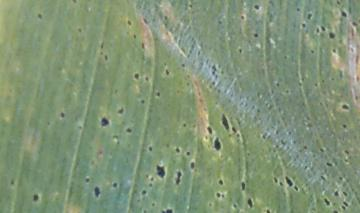tarspot: (220, 113, 230, 131), (213, 137, 223, 153), (155, 164, 166, 178), (99, 117, 110, 128), (175, 171, 183, 186), (93, 186, 101, 199), (327, 31, 336, 40), (285, 177, 293, 187), (305, 12, 313, 21), (32, 193, 39, 203), (160, 208, 174, 213), (240, 182, 247, 192), (247, 197, 253, 208), (124, 126, 132, 134), (323, 198, 331, 206), (59, 110, 66, 119), (133, 72, 140, 81), (206, 126, 213, 135), (341, 104, 350, 111), (211, 65, 217, 75), (339, 68, 344, 80), (111, 181, 119, 188), (142, 17, 149, 25), (254, 3, 261, 11), (237, 46, 244, 54), (97, 149, 105, 156), (349, 45, 356, 53), (272, 176, 278, 185), (84, 177, 91, 184), (351, 21, 358, 28), (320, 175, 327, 182), (343, 200, 350, 207), (112, 133, 119, 140), (117, 108, 125, 114), (218, 178, 224, 186), (215, 191, 221, 199), (293, 184, 299, 192), (301, 21, 307, 29), (77, 123, 83, 131), (217, 18, 223, 26), (275, 80, 281, 88), (190, 161, 195, 170), (37, 13, 43, 20), (99, 42, 105, 49), (174, 147, 181, 153), (142, 189, 148, 196), (207, 201, 213, 208), (239, 14, 245, 21), (295, 6, 301, 13), (335, 1, 342, 7), (338, 176, 345, 182), (302, 143, 308, 150), (114, 88, 119, 96), (127, 19, 132, 27), (144, 74, 149, 82), (321, 24, 326, 32), (141, 40, 145, 49), (164, 70, 170, 76), (253, 32, 259, 38), (342, 12, 348, 18), (334, 191, 340, 197), (327, 162, 333, 168), (342, 191, 348, 197), (344, 149, 350, 155), (319, 147, 325, 153), (185, 80, 191, 86), (148, 146, 153, 153), (140, 98, 145, 105), (182, 122, 187, 129), (186, 150, 191, 157), (163, 15, 168, 22), (211, 79, 216, 86), (355, 94, 360, 101), (339, 38, 344, 45), (156, 90, 160, 98), (332, 209, 340, 213), (10, 180, 15, 186), (232, 203, 237, 209), (150, 202, 156, 207), (148, 182, 153, 188), (150, 176, 155, 182), (144, 174, 150, 179), (332, 48, 337, 54), (310, 48, 315, 54), (232, 127, 237, 133), (342, 123, 347, 129), (90, 159, 95, 165), (46, 121, 51, 127), (285, 88, 290, 94), (162, 61, 167, 67), (262, 134, 267, 140), (321, 78, 326, 84), (287, 130, 292, 136), (104, 54, 108, 61), (133, 33, 137, 40), (265, 209, 272, 213), (331, 75, 335, 82), (78, 28, 83, 33), (188, 4, 193, 9), (315, 28, 320, 33), (136, 198, 141, 203), (313, 82, 318, 87), (246, 152, 251, 157), (279, 181, 283, 187), (181, 62, 185, 68), (72, 1, 77, 5), (166, 143, 170, 148), (116, 141, 121, 145), (284, 56, 288, 60), (237, 133, 240, 138), (302, 77, 305, 82), (222, 194, 225, 198), (143, 209, 146, 213)
